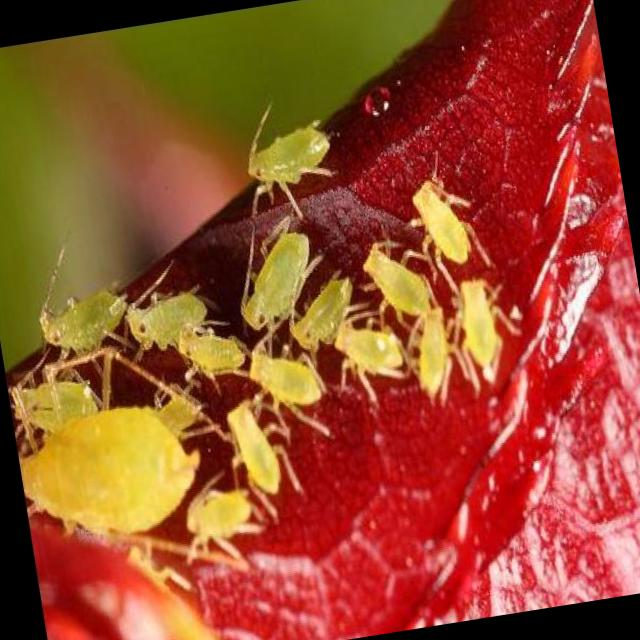aphid: (8, 333, 223, 560), (205, 193, 338, 336), (204, 381, 298, 536), (232, 118, 364, 216), (228, 335, 346, 444), (111, 262, 227, 372), (170, 458, 278, 575), (400, 158, 492, 288), (442, 269, 528, 399), (350, 222, 440, 331), (27, 280, 128, 374), (172, 310, 252, 391)
